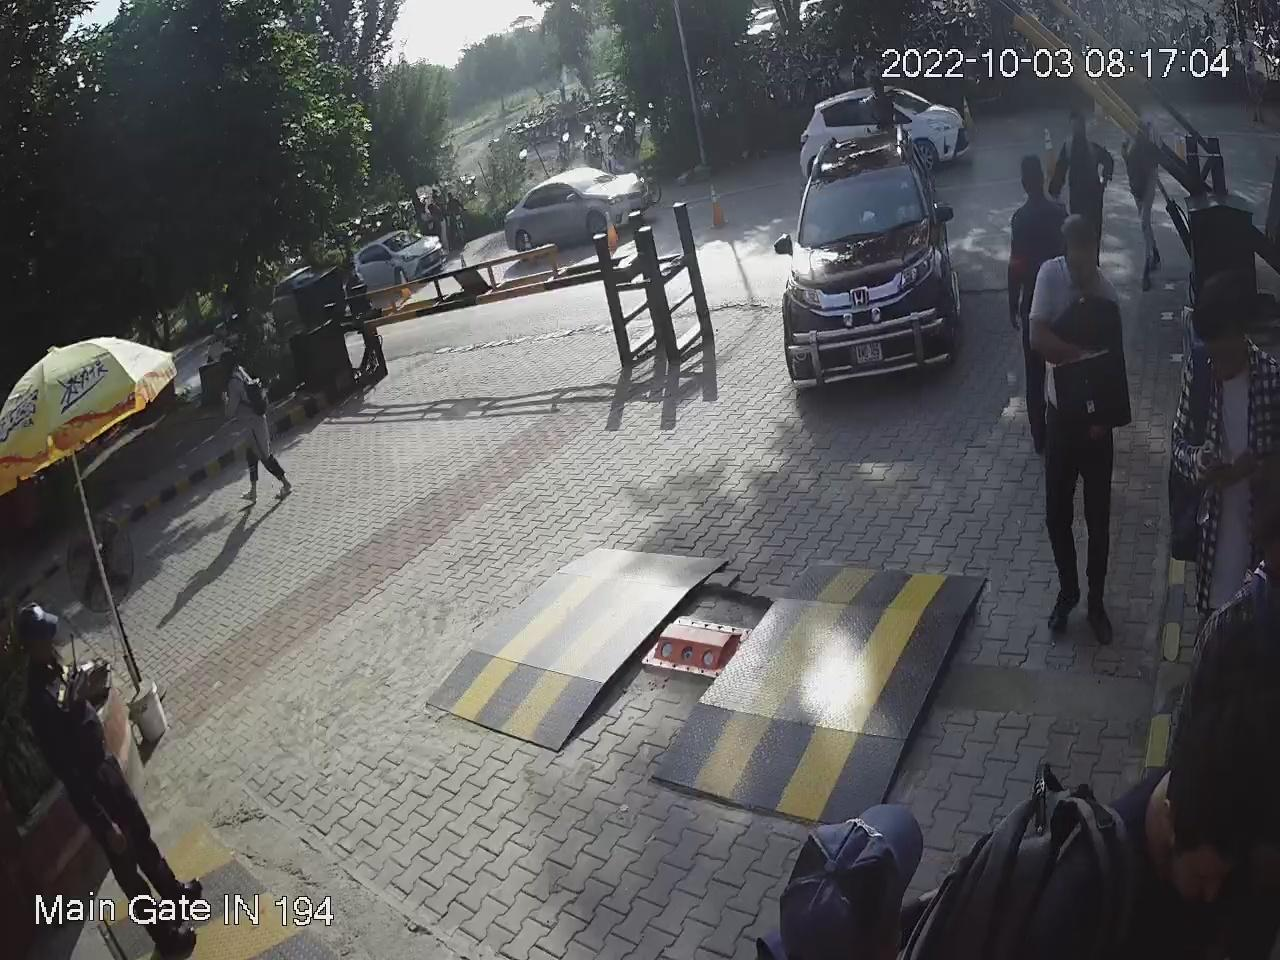windshield: (790, 155, 938, 257)
